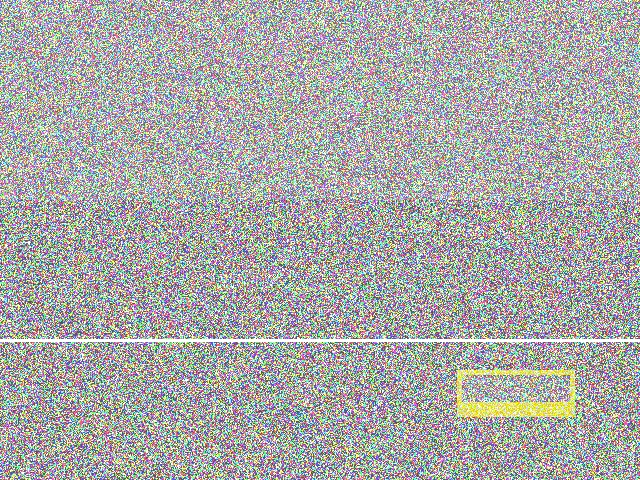car: (467, 278, 550, 392)
motorcycle: (135, 273, 313, 385), (301, 156, 440, 222)
